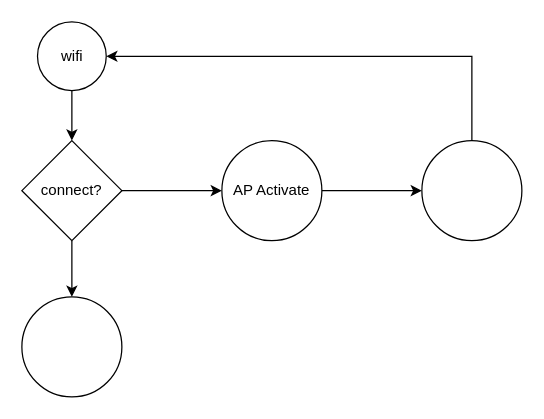
Some shapes in this 544 by 419 pixel diagram are drawn without their labels. The shapes that lost their labels are listed below. From the top down, each one's centre as x and y in pixels, then its label:
At point 471,190: "WEB UI Config".
At point 71,346: "System activate".
